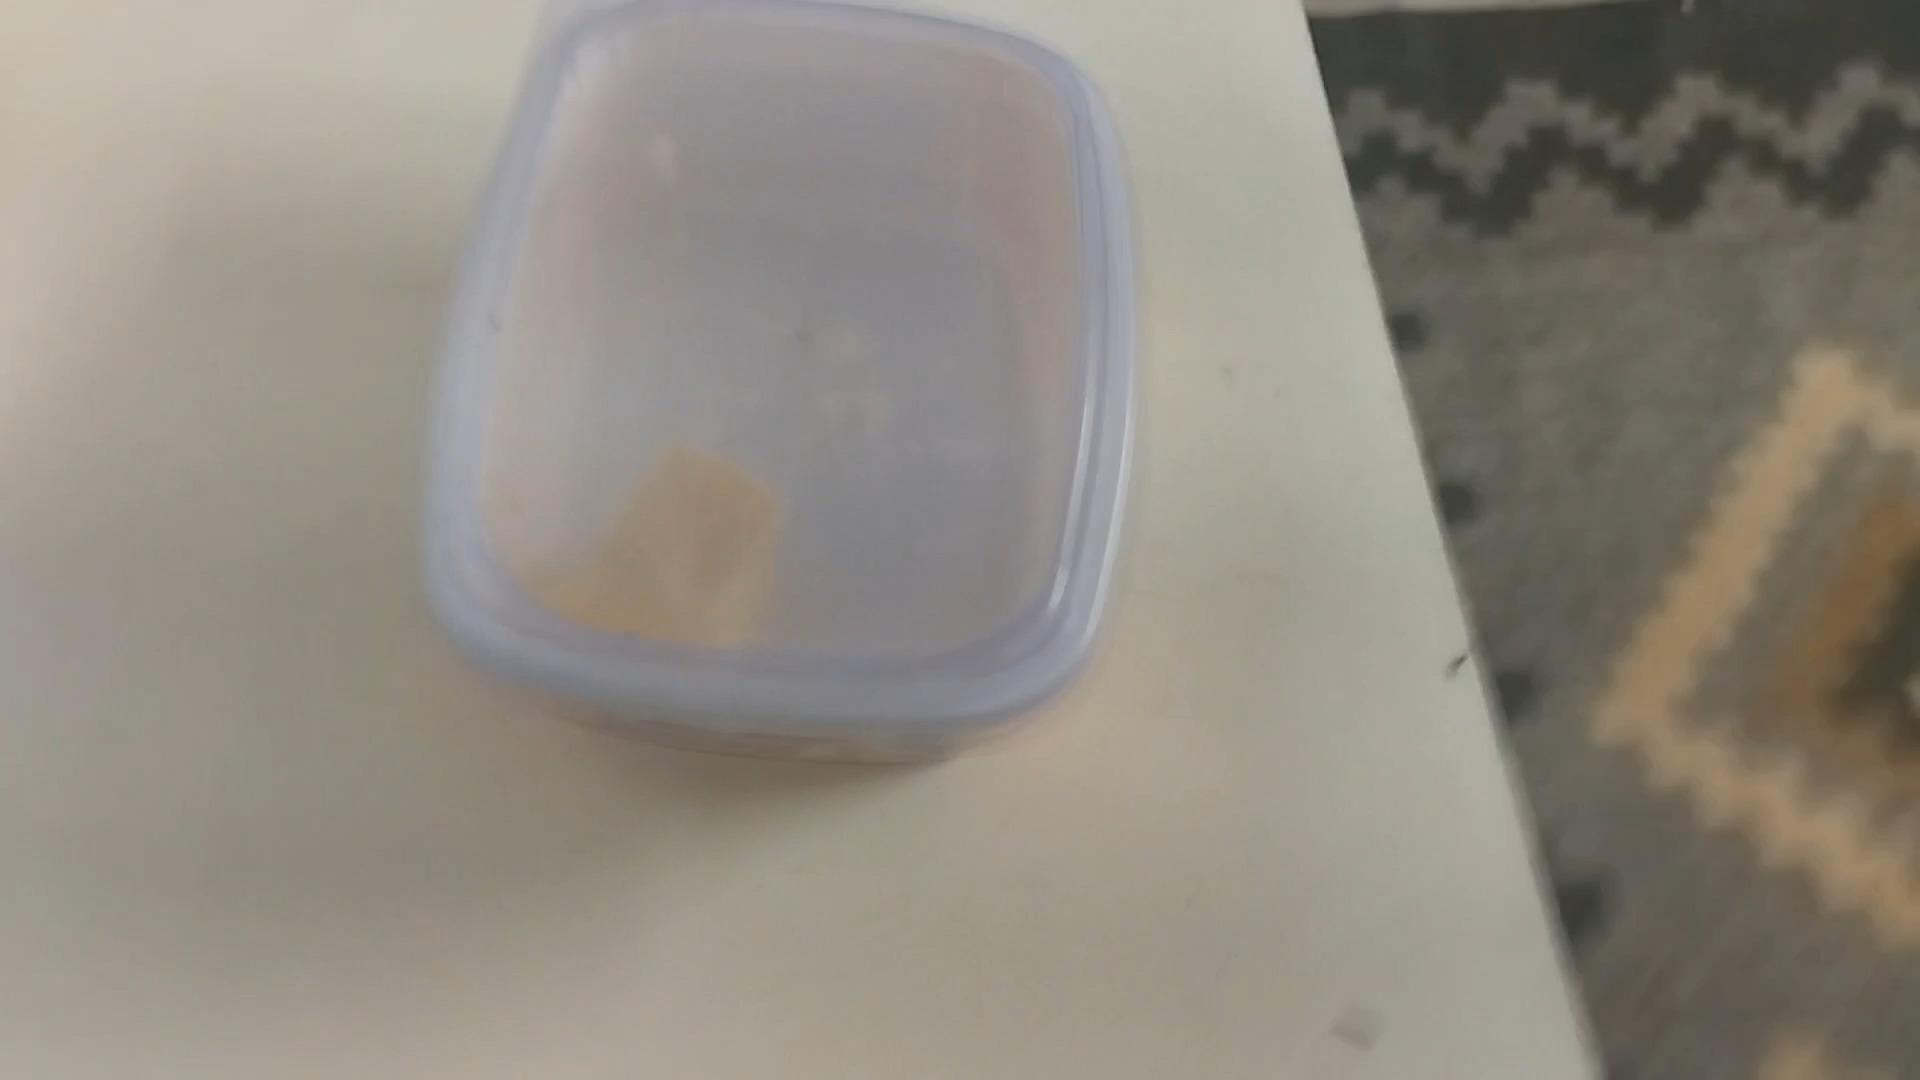butter: (419, 0, 1125, 765)
